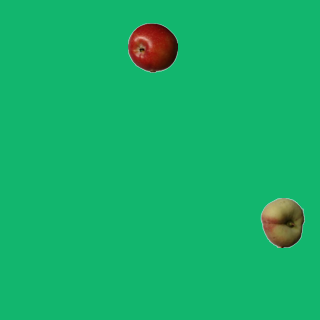Apple Braeburn: (127, 22, 177, 72)
Peach Flat: (257, 197, 307, 247)
